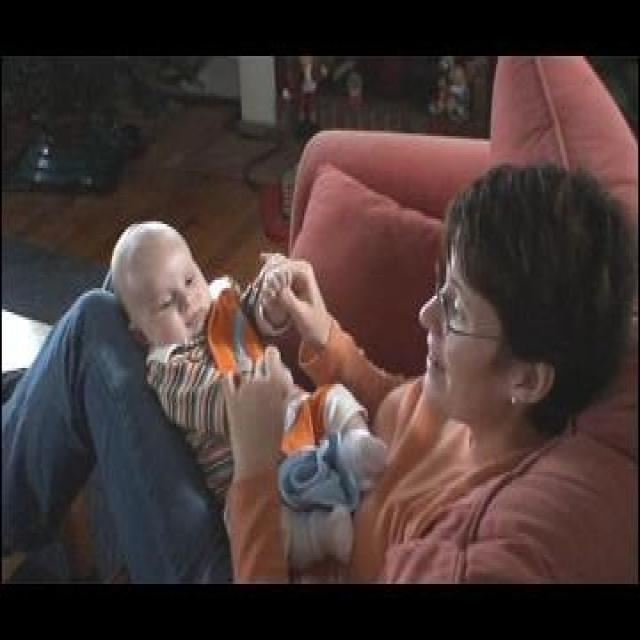sofa: (277, 53, 638, 592)
